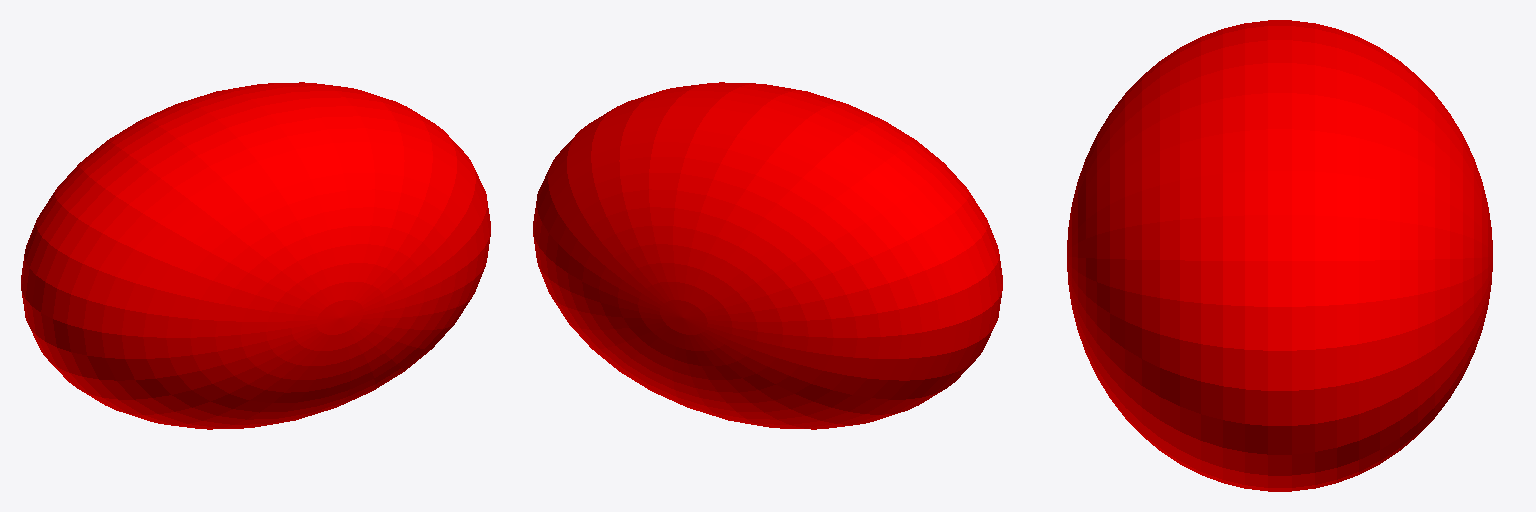
The robot description file, URDF, robot "sphere":
?<?xml version="0.0" ?>
<robot name="sphere">
  <link name="baseLink">
    <contact>
      <!-- <rolling_friction value="0.03"/> -->
      <!-- <spinning_friction value="0.03"/> -->
      <!-- <lateral_friction value="3.0"/> -->
      <!-- <stiffness value="300"/> -->
      <!-- <damping value="50"/> -->
    </contact>

    <inertial>
      <origin rpy="0 0 0" xyz="0.0225 0.000 0.0047"/>
       <!-- <mass value="0.101"/> -->
       <mass value="0"/>
       <inertia ixx="0.00003611" ixy="0" ixz="0" iyy="0.00003611" iyz="0" izz="0.00003611"/>
    </inertial>

    <visual>
      <origin rpy="0 0 0" xyz="0.0225 0.000 0.0047"/>
      <geometry>
        <mesh filename="./obj/sphere.obj" scale="0.003 0.002 0.002"/>
      </geometry>
      <material name="black">
        <color rgba="255 0 0 1"/>
      </material>
    </visual>

    <!-- <collision concave="yes"> -->
    <collision>
      <origin rpy="0 0 0" xyz="0.0225 0.000 0.0047"/>
      <geometry>
         <mesh filename="./obj/sphere.obj" scale="0.001 0.002 0.001"/>
      </geometry>
    </collision>
  </link>
</robot>

--- What the picture shows (computed from the rendered views, not written in the file) ---
3 views of the same robot in one strip: view 1: azimuth 30°, elevation 25°; view 2: azimuth 150°, elevation 25°; view 3: azimuth 270°, elevation 25° (orthographic).
Robot: sphere — 1 links, 0 joints (none); root link baseLink; default pose: all joints at 0.
Links seen in each view (by area): view 1: baseLink; view 2: baseLink; view 3: baseLink.
Boxes of the visible links, x1=… form: baseLink: x1=21, y1=82, x2=490, y2=429; baseLink: x1=533, y1=82, x2=1002, y2=429; baseLink: x1=1067, y1=20, x2=1492, y2=491.
Size in the robot's own frame: 0.1797 by 0.12 by 0.1198 metres.
Meshes: 1 distinct files referenced, 1 mesh visuals loaded (1 OBJ).